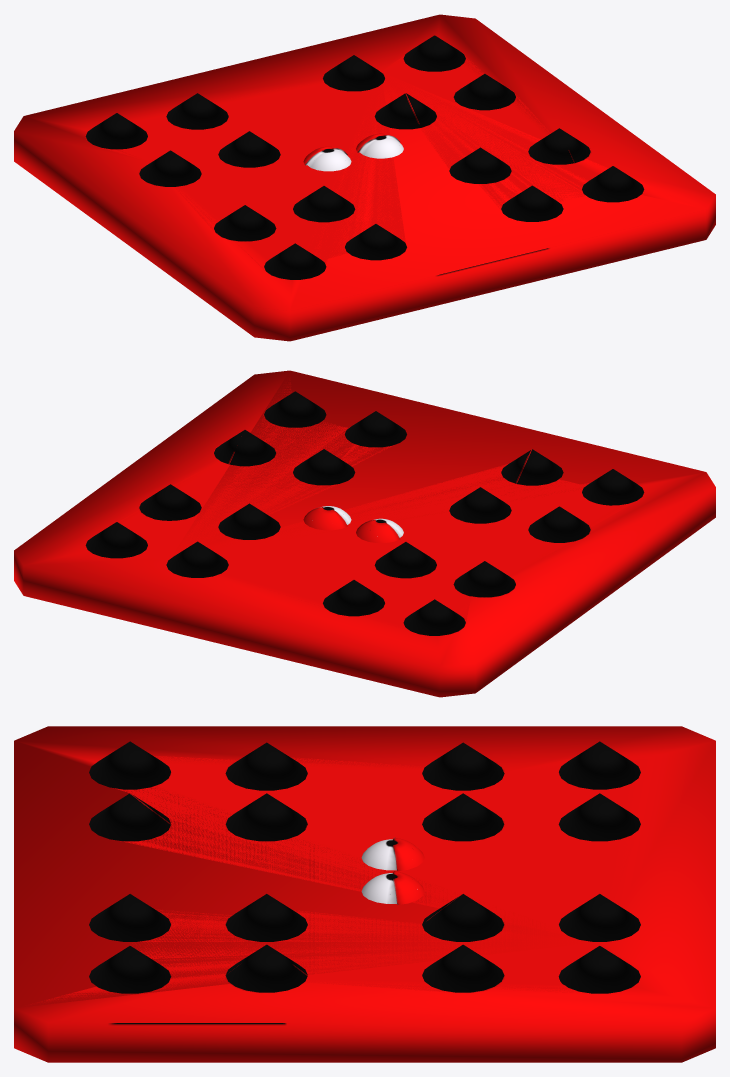
Rendered from SpikeTrap.fbx.
3 views of the same model, one above another, from view 1: azimuth 30°, elevation 25°; view 2: azimuth 150°, elevation 25°; view 3: azimuth 270°, elevation 25° (orthographic). The views are drawn at different scales.
Parts seen in each view (by area): view 1: Platform, Spikes, Eyes; view 2: Platform, Spikes, Eyes; view 3: Platform, Spikes, Eyes.
Boxes of the visible parts, x1,y1,x2,y2 form: Platform: [14, 14, 715, 341]; Spikes: [85, 35, 644, 279]; Eyes: [303, 133, 403, 171]; Platform: [14, 370, 715, 697]; Spikes: [85, 391, 644, 635]; Eyes: [303, 506, 403, 542]; Platform: [14, 726, 715, 1062]; Spikes: [89, 741, 640, 993]; Eyes: [361, 837, 424, 904].
Bounding box in the file's own units: 219 × 24.39 × 219.
